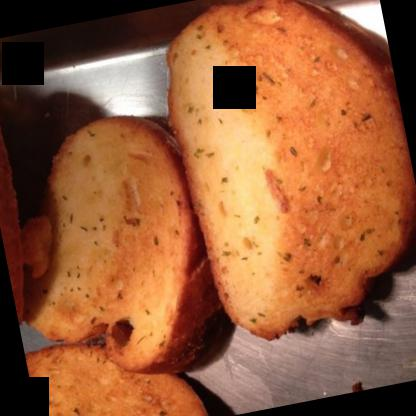toast bread: (148, 0, 415, 354), (0, 108, 219, 393), (24, 320, 214, 415)
